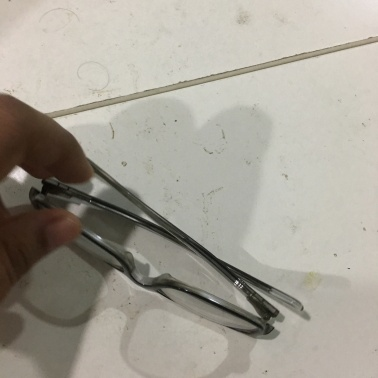glasses: (30, 158, 286, 342)
